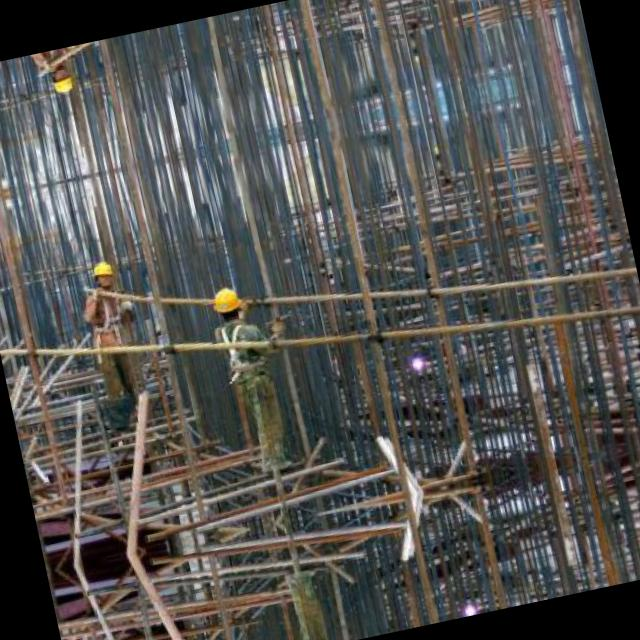helmet: (207, 280, 246, 321), (86, 256, 115, 288), (46, 64, 74, 96)
